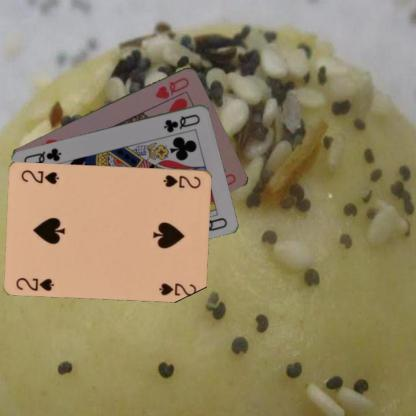2s: (161, 172, 202, 190), (14, 275, 55, 292)
Qc: (161, 111, 202, 133)
Qh: (152, 74, 190, 100)
